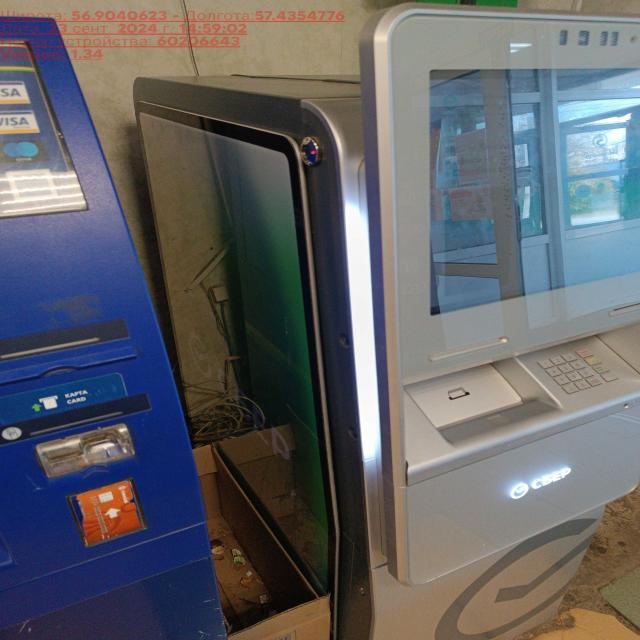bank: (136, 11, 640, 640)
